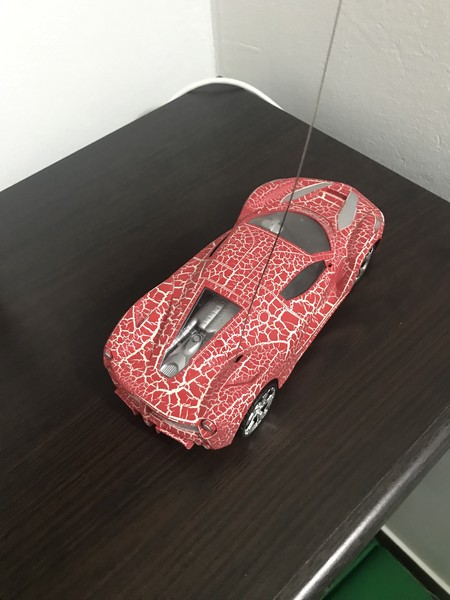RC: (100, 173, 389, 456)
